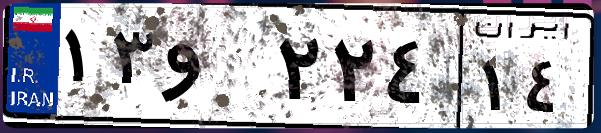1: (57, 26, 110, 100), (475, 38, 525, 113)
2: (270, 28, 330, 110), (330, 28, 385, 110)
3: (110, 28, 158, 98)
4: (385, 28, 445, 110), (525, 38, 570, 115)
و: (158, 20, 270, 120)
